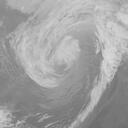cyclone: (11, 5, 86, 89)
